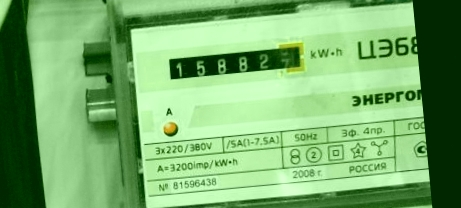1: (173, 60, 183, 76)
2: (257, 50, 268, 68)
5: (194, 57, 205, 74)
7: (279, 55, 289, 67)
8: (236, 53, 247, 71), (215, 56, 226, 73)
screen: (160, 36, 311, 88)
